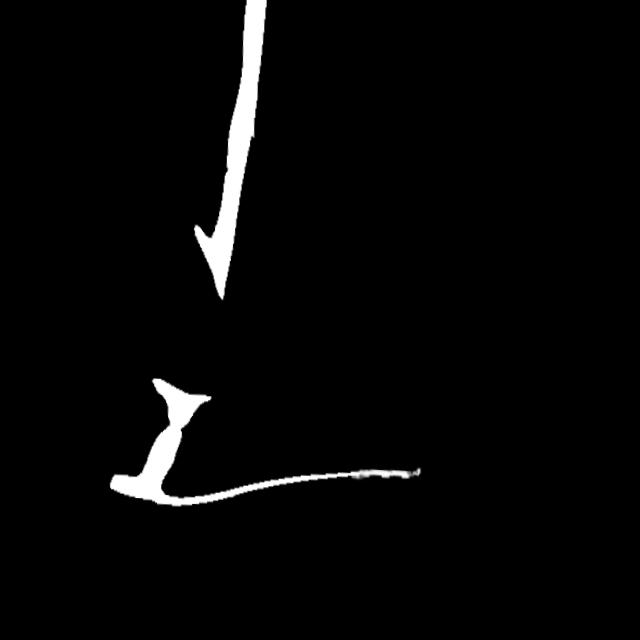stp: (393, 464, 422, 490)
